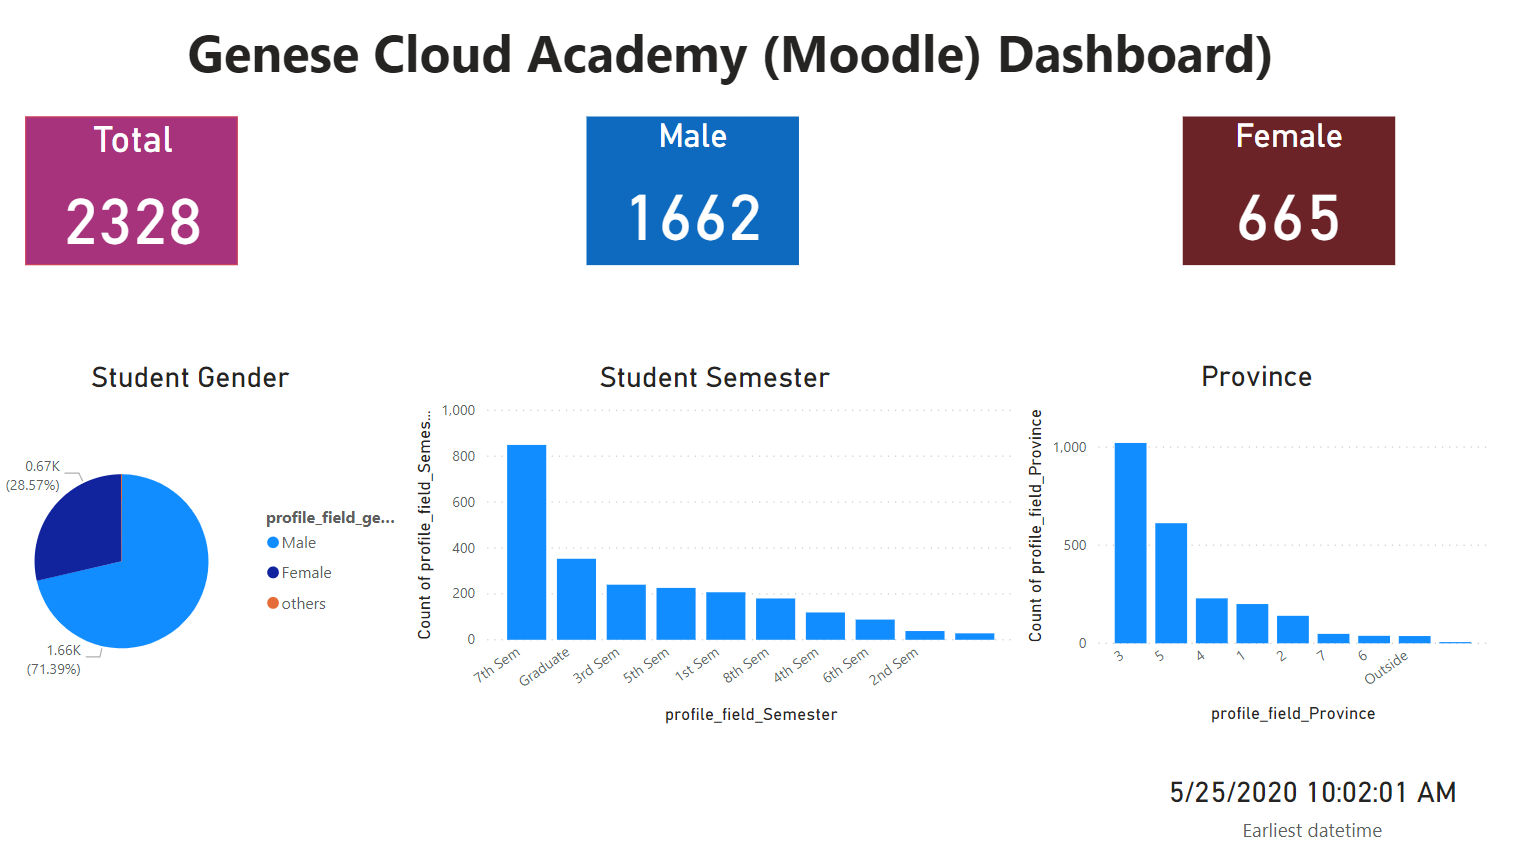

The page's visual inventory and layout, read from the dashboard file:
{"tool":"powerbi","page":{"name":"Dashboard","canvas":[1280,720],"ordinal":0},"visuals":[{"type":"pieChart","title":"Student Gender","fields":{"Category":["user_latest.profile_field_gender1"],"Series":["user_latest.profile_field_gender1"],"Y":["CountNonNull(user_latest.profile_field_gender)"]},"box":[2.1,303.2,367.2,310.5],"z":0},{"type":"columnChart","title":"Student Semester","fields":{"Category":["user_latest.profile_field_Semester1"],"Y":["CountNonNull(user_latest.profile_field_Semester)1"]},"box":[369.4,303.2,513.4,310.5],"z":1000},{"type":"columnChart","title":"Province","fields":{"Category":["user_latest.profile_field_Province1"],"Y":["CountNonNull(user_latest.profile_field_Province)1"]},"box":[882.3,302.7,397.4,310.5],"z":2000},{"type":"card","title":"Total","fields":{"Values":["CountNonNull(user_latest.id)"]},"box":[47.1,98.8,178.8,124.4],"z":3000},{"type":"card","title":"Male","fields":{"Values":["CountNonNull(user_latest.profile_field_gender)"]},"box":[518.2,98.8,178.8,124.4],"z":4000},{"type":"card","title":"Female","fields":{"Values":["CountNonNull(user_latest.profile_field_gender)"]},"box":[1019.5,98.8,178.8,124.4],"z":5000},{"type":"textbox","box":[0,10.9,1279.3,72.5],"z":6000},{"type":"card","fields":{"Values":["Min(Kathmandu.datetime)"]},"box":[994.2,641.5,268.2,68.9],"z":7000}]}

Visuals, with their boxes in screenshot pixels (x1, y1, x2, y2), scaled from the page's 1280x720 canvas onto the 1532x848 screenshot:
"Student Gender" pieChart: 3/357/442/723
"Student Semester" columnChart: 442/357/1057/723
"Province" columnChart: 1056/357/1531/722
"Total" card: 56/116/270/263
"Male" card: 620/116/834/263
"Female" card: 1220/116/1434/263
textbox: 0/13/1531/98
card - Min(Kathmandu.datetime): 1190/756/1511/837
